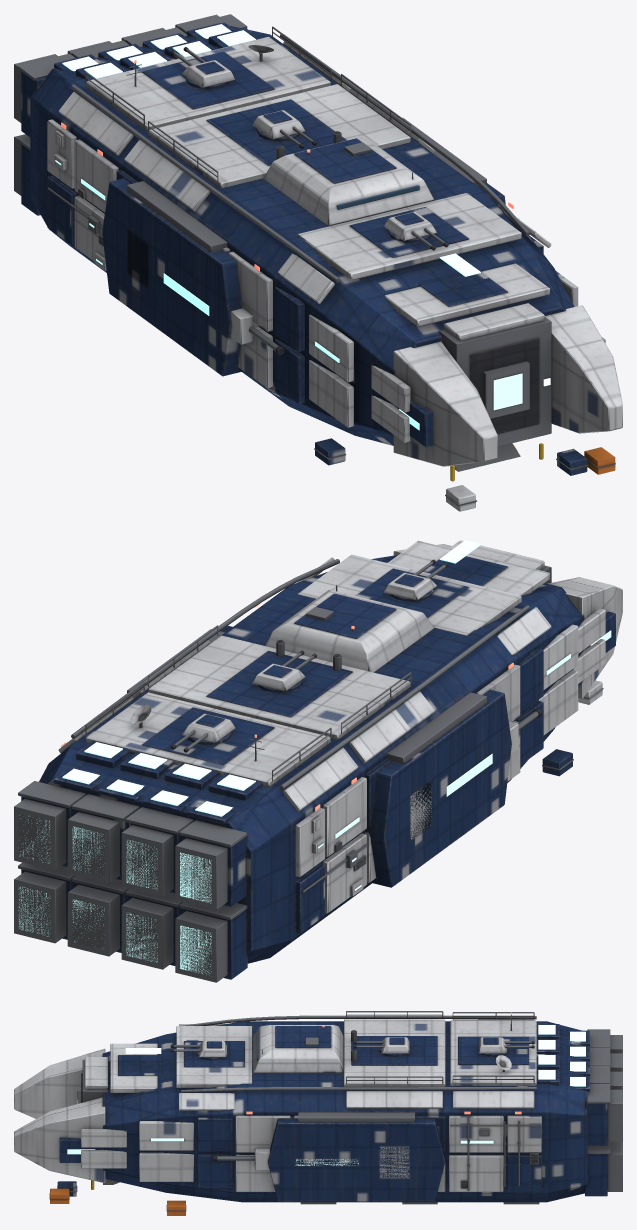
File: 重製_重裝方舟堡壘.glb
3 views of the same model, one above another, from view 1: azimuth 30°, elevation 25°; view 2: azimuth 150°, elevation 25°; view 3: azimuth 270°, elevation 25° (orthographic). The views are drawn at different scales.
Visible parts, largest first — view 1: Ark_Mesh; view 2: Ark_Mesh; view 3: Ark_Mesh.
Part boxes in pixels (left/top/right/bottom): Ark_Mesh: left=14, top=14, right=622, bottom=511; Ark_Mesh: left=14, top=540, right=622, bottom=982; Ark_Mesh: left=14, top=1011, right=622, bottom=1215.
Bounding box in the file's own units: 8.95 × 6.15 × 24.
4 materials, 1 textured.
